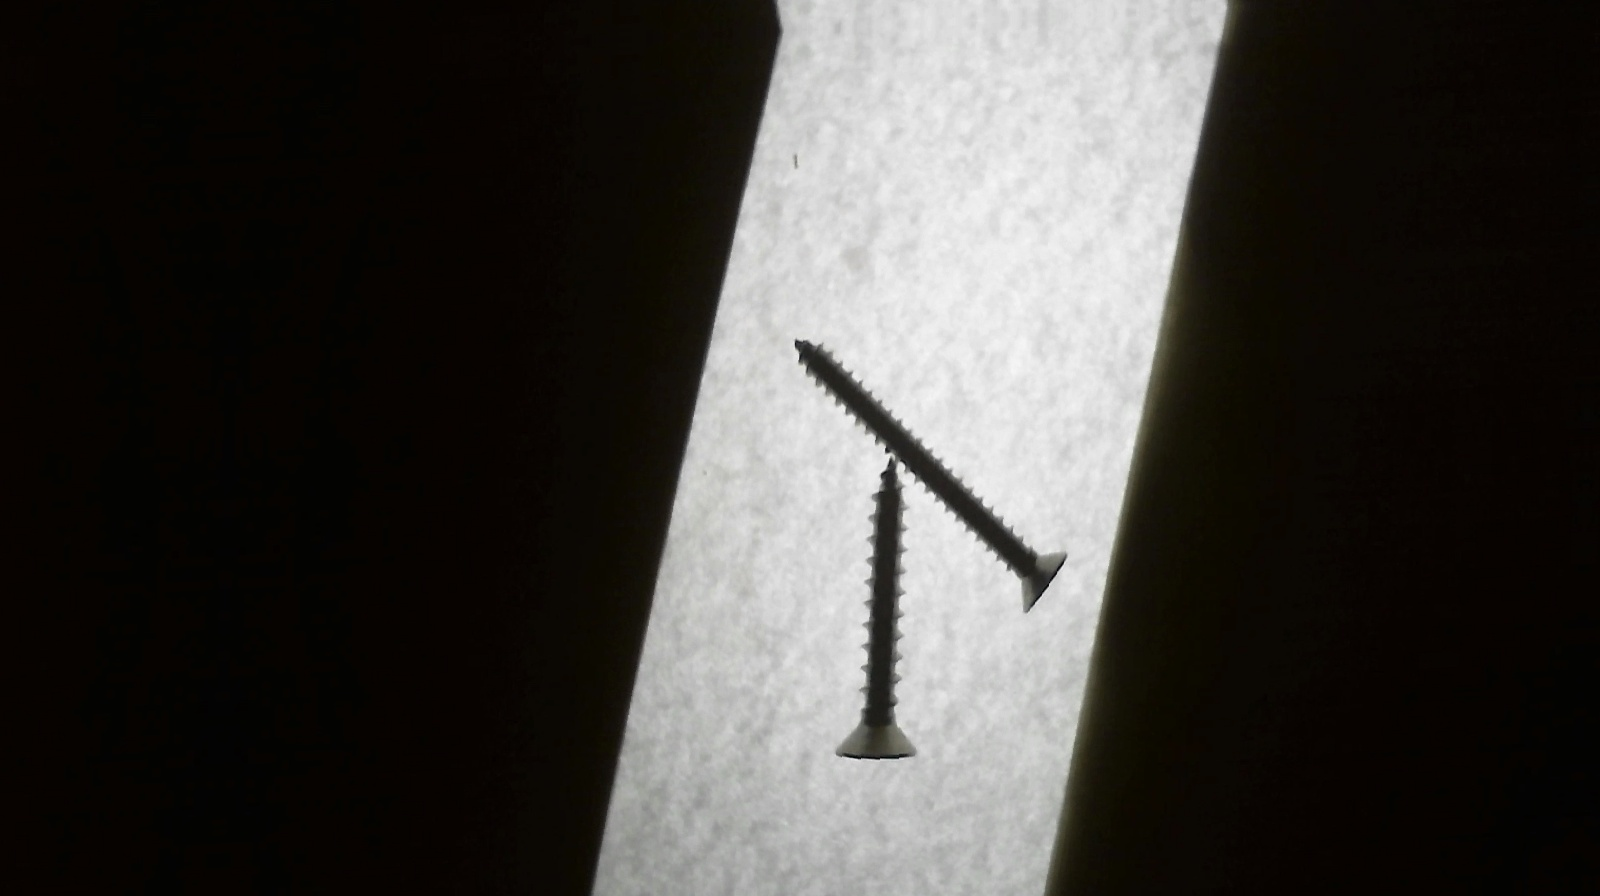S001: (831, 450, 930, 764)
S002: (779, 312, 1076, 631)
